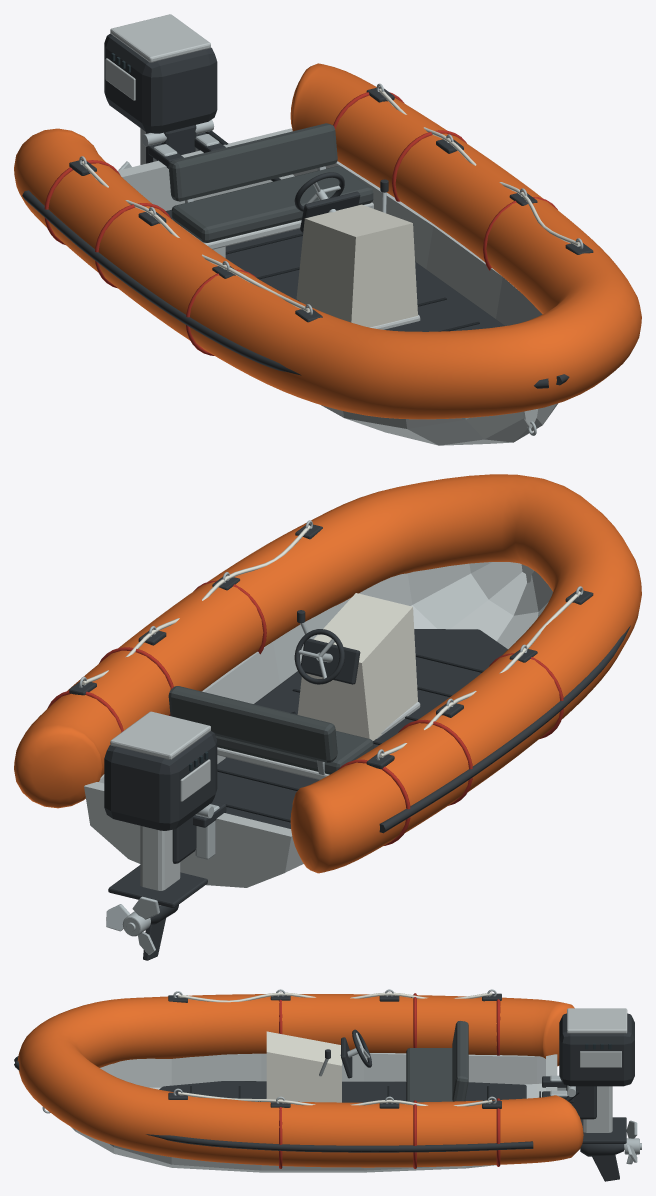
File: city-rigid-inflatable-rescue-boat.glb
3 views of the same model, one above another, from view 1: azimuth 30°, elevation 25°; view 2: azimuth 150°, elevation 25°; view 3: azimuth 270°, elevation 25° (orthographic). The views are drawn at different scales.
Parts seen in each view (by area): view 1: Assembly | Unbranded safety-orange collar, Assembly | Graphite mechanism, Assembly | Rigid hull pale gray, Assembly | Warm ivory hull enamel, Assembly | Saddle and seat upholstery, Assembly | Rescue boat trim, Assembly | Brushed marine hardware, Assembly | Textured-looking rubber trim; view 2: Assembly | Unbranded safety-orange collar, Assembly | Rigid hull pale gray, Assembly | Graphite mechanism, Assembly | Warm ivory hull enamel, Assembly | Saddle and seat upholstery, Assembly | Brushed marine hardware, Assembly | Rescue boat trim, Assembly | Textured-looking rubber trim; view 3: Assembly | Unbranded safety-orange collar, Assembly | Graphite mechanism, Assembly | Rigid hull pale gray, Assembly | Warm ivory hull enamel, Assembly | Saddle and seat upholstery, Assembly | Brushed marine hardware, Assembly | Rescue boat trim.
Boxes of the visible parts, <box> form: Assembly | Unbranded safety-orange collar: <box>14,63,641,419</box>; Assembly | Graphite mechanism: <box>22,33,593,388</box>; Assembly | Rigid hull pale gray: <box>105,14,557,445</box>; Assembly | Warm ivory hull enamel: <box>81,88,580,327</box>; Assembly | Saddle and seat upholstery: <box>168,123,373,242</box>; Assembly | Rescue boat trim: <box>44,92,557,355</box>; Assembly | Brushed marine hardware: <box>79,83,583,435</box>; Assembly | Textured-looking rubber trim: <box>205,130,479,331</box>; Assembly | Unbranded safety-orange collar: <box>14,474,641,873</box>; Assembly | Rigid hull pale gray: <box>84,562,552,905</box>; Assembly | Graphite mechanism: <box>69,523,630,960</box>; Assembly | Warm ivory hull enamel: <box>82,525,580,757</box>; Assembly | Saddle and seat upholstery: <box>168,686,373,774</box>; Assembly | Brushed marine hardware: <box>79,520,583,954</box>; Assembly | Rescue boat trim: <box>47,580,563,845</box>; Assembly | Textured-looking rubber trim: <box>217,654,483,822</box>; Assembly | Unbranded safety-orange collar: <box>17,994,583,1167</box>; Assembly | Graphite mechanism: <box>14,993,634,1181</box>; Assembly | Rigid hull pale gray: <box>71,1008,627,1172</box>; Assembly | Warm ivory hull enamel: <box>178,992,492,1106</box>; Assembly | Saddle and seat upholstery: <box>406,1021,468,1102</box>; Assembly | Brushed marine hardware: <box>42,989,641,1164</box>; Assembly | Rescue boat trim: <box>279,993,500,1168</box>.
Bounding box in the file's own units: 2.57 × 1.39 × 4.9.
